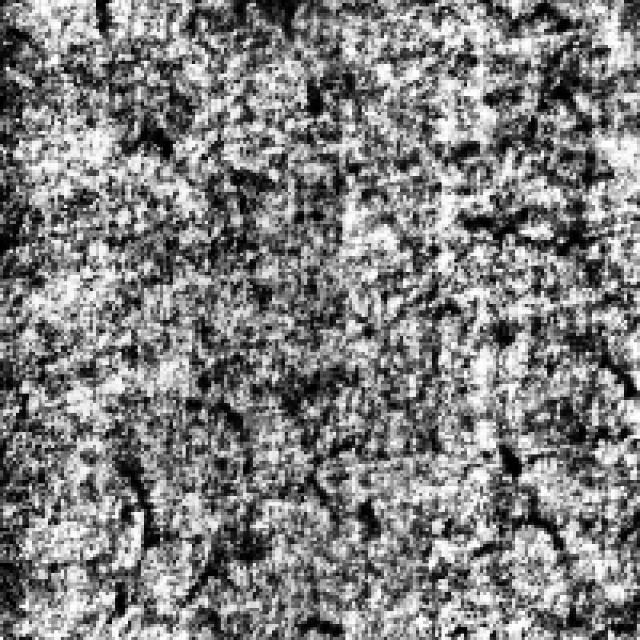Pitted_Surface: (93, 384, 253, 630), (454, 76, 598, 260), (452, 428, 582, 618)
